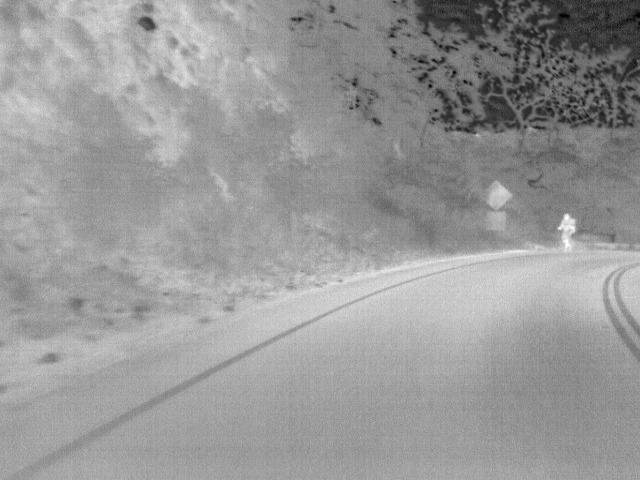person: (558, 211, 578, 251)
